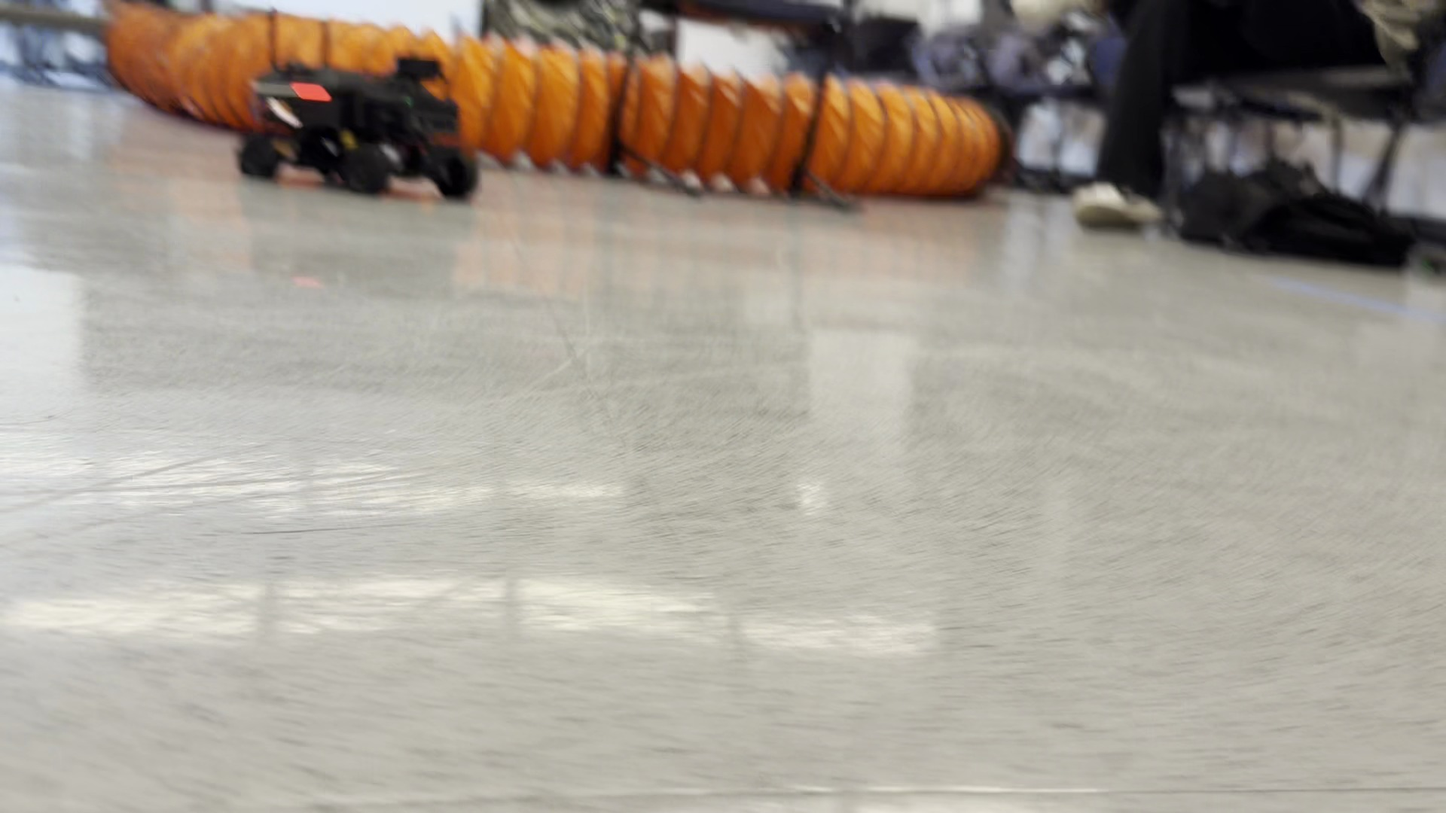racecar: (235, 48, 477, 200)
